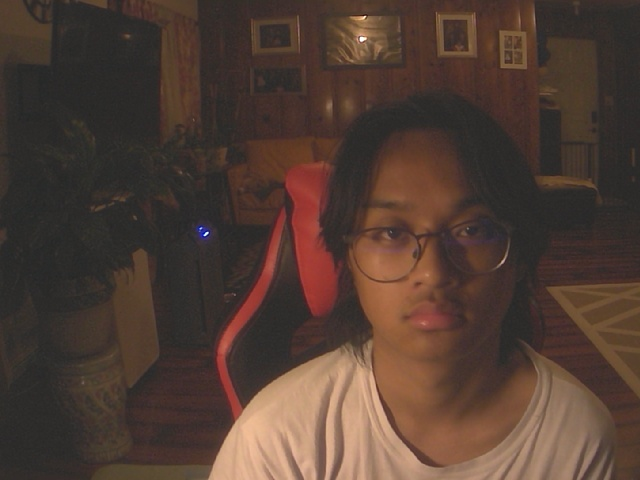neutral: (316, 90, 548, 370)
